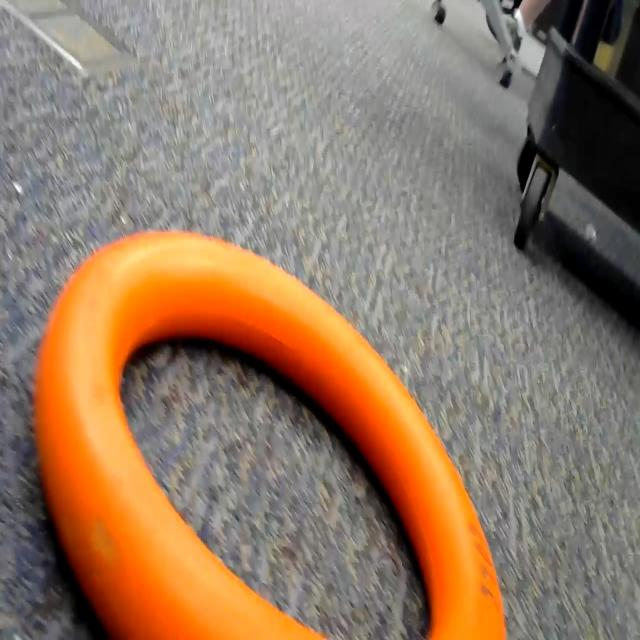note: (0, 215, 509, 640)
